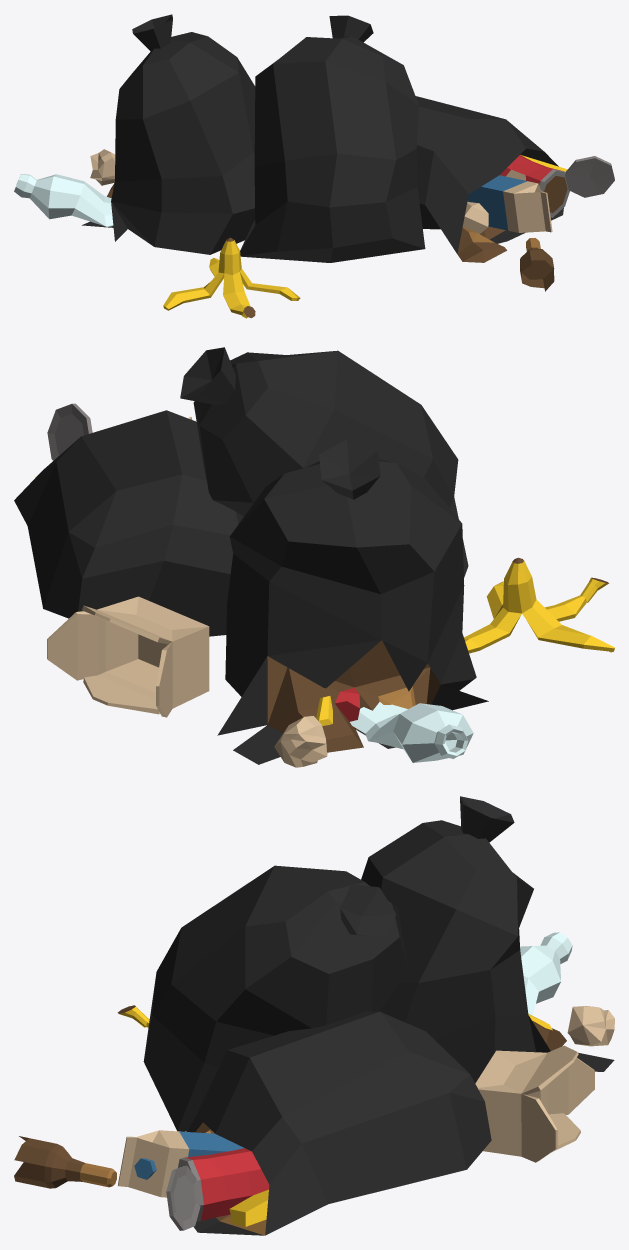
File: garbage_pile.glb
The picture shows the model from 3 angles, top to bottom: view 1: azimuth 30°, elevation 25°; view 2: azimuth 150°, elevation 25°; view 3: azimuth 270°, elevation 25°; orthographic projection. The views are drawn at different scales.
Visible parts, largest first — view 1: garbage_pile; view 2: garbage_pile; view 3: garbage_pile.
Part boxes in pixels (x1,y1,x2,y2): garbage_pile: (14, 14, 614, 318); garbage_pile: (14, 347, 614, 767); garbage_pile: (14, 796, 614, 1235).
Bounding box in the file's own units: 1.26 × 0.5378 × 1.12.
Materials: 1 (1 with a texture image).
